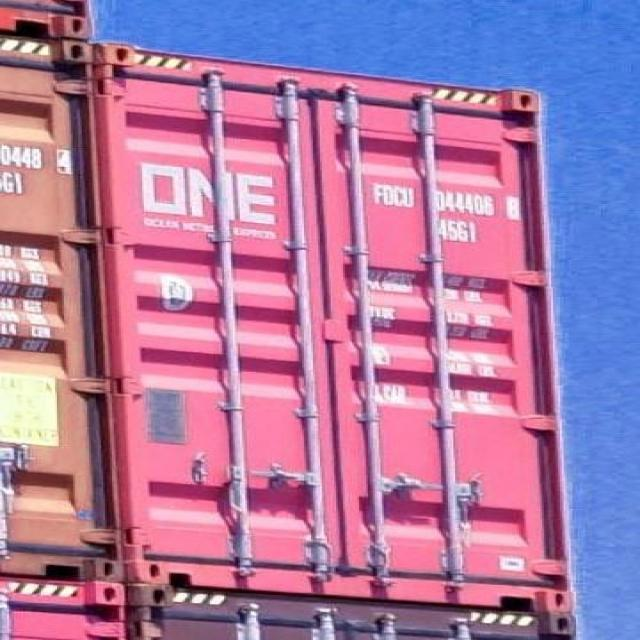ISO: (434, 216, 481, 245)
container_number: (377, 181, 519, 216)
